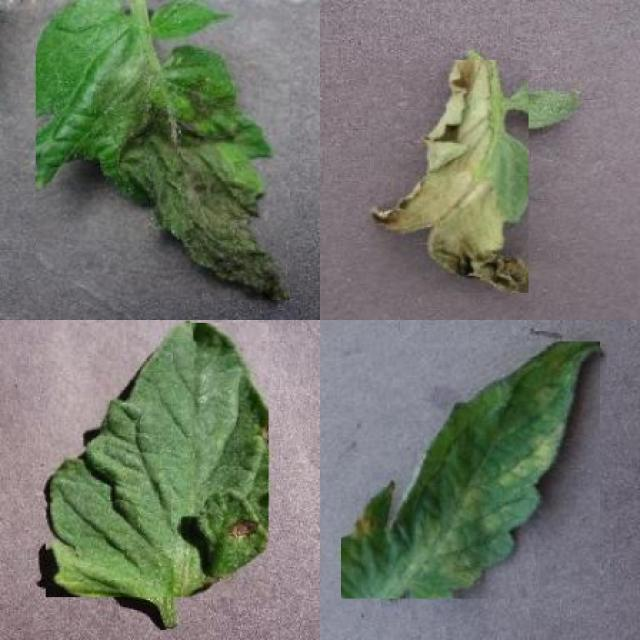Early Blight: (46, 322, 270, 598)
Late Blight: (36, 0, 291, 300), (368, 60, 528, 293)
Leaf Mold: (340, 342, 600, 598)
